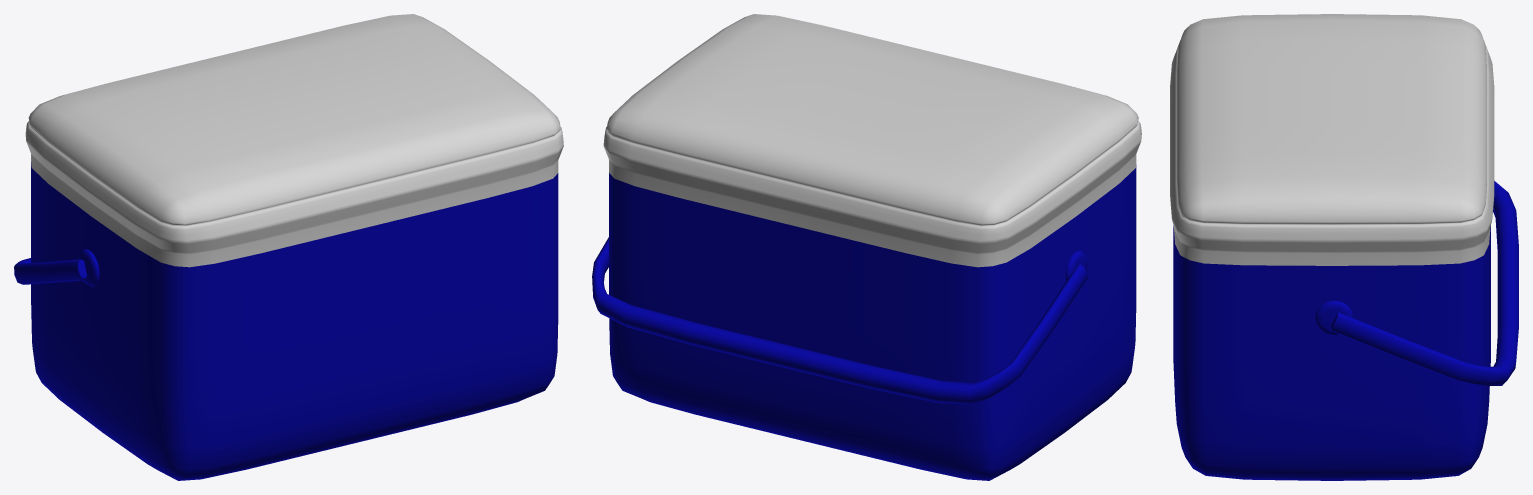
Rendered from Proto_Cooler_01.fbx.
The picture shows the model from 3 angles, left to right: view 1: azimuth 30°, elevation 25°; view 2: azimuth 150°, elevation 25°; view 3: azimuth 270°, elevation 25°; orthographic projection.
Parts seen in each view (by area): view 1: Proto_Cooler_01; view 2: Proto_Cooler_01; view 3: Proto_Cooler_01.
Boxes of the visible parts, x1,y1,x2,y2 form: Proto_Cooler_01: [14, 14, 563, 480]; Proto_Cooler_01: [592, 14, 1141, 480]; Proto_Cooler_01: [1170, 14, 1518, 480].
Size of the model in its own units: 11.68 by 7.91 by 8.27.
